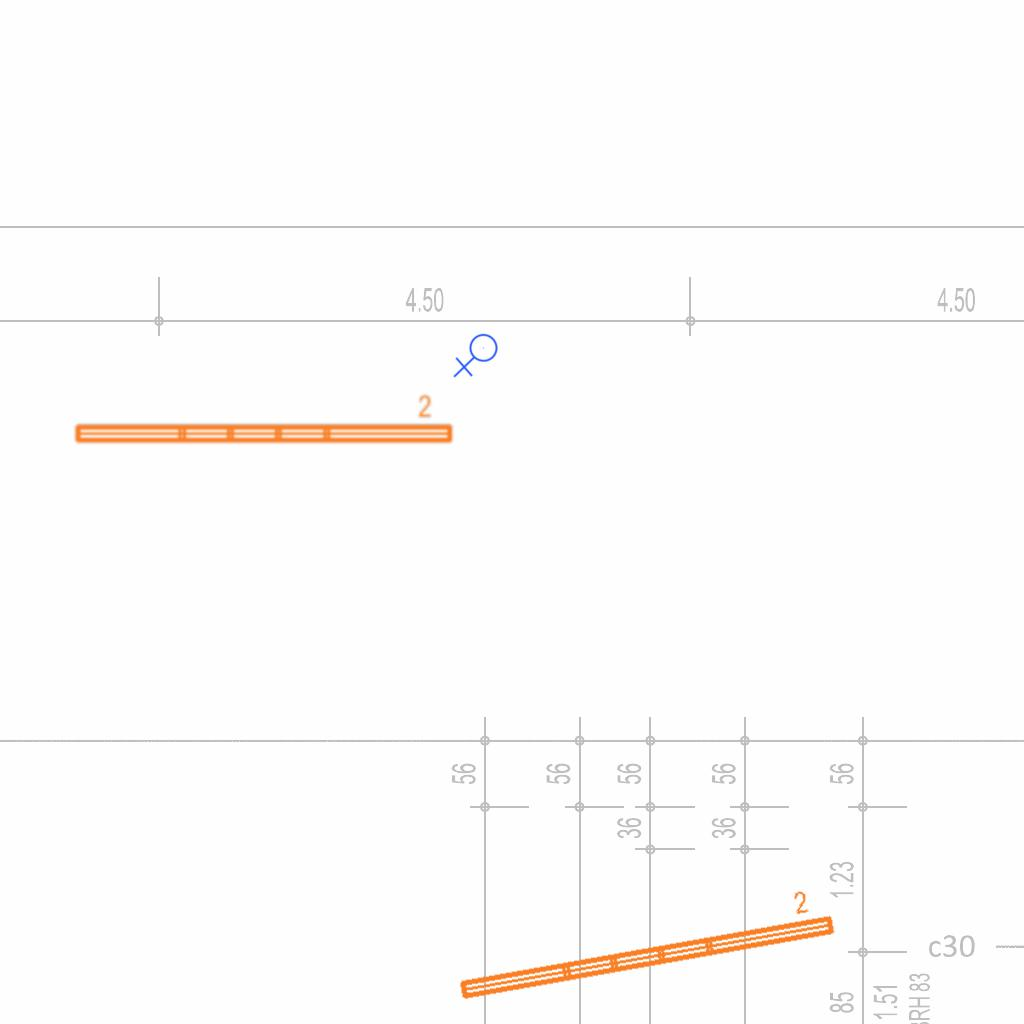Ambulanz_Pendelleuchte_LED: (449, 883, 840, 1007), (70, 393, 457, 449)
Elektroanschluss_allgemein_230V_Geraeteanschlussdose_230V: (453, 333, 502, 380)
